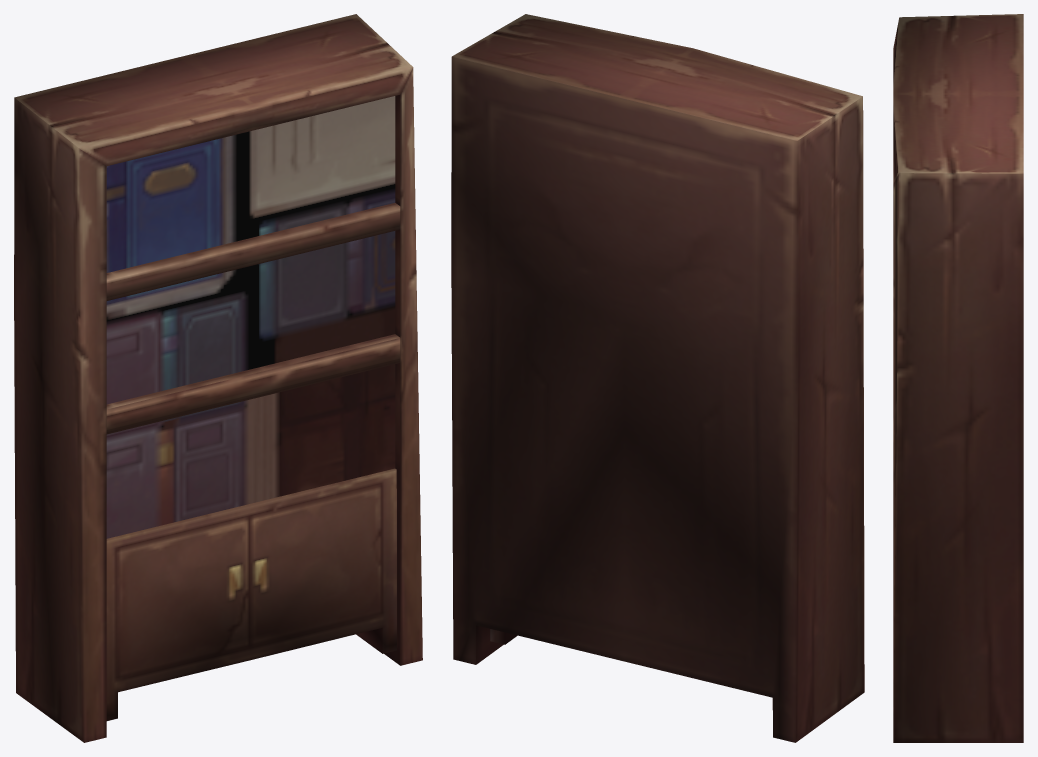
The model's file is guchengqishituan_wujian_29.FBX.
The picture shows the model from 3 angles, left to right: view 1: azimuth 30°, elevation 25°; view 2: azimuth 150°, elevation 25°; view 3: azimuth 270°, elevation 25°; orthographic projection. The views are drawn at different scales.
Parts seen in each view (by area): view 1: mesh_humanlife_props_029; view 2: mesh_humanlife_props_029; view 3: mesh_humanlife_props_029.
Boxes of the visible parts, x1,y1,x2,y2 form: mesh_humanlife_props_029: (14,14,422,742); mesh_humanlife_props_029: (451,14,864,742); mesh_humanlife_props_029: (893,14,1023,742).
Size of the model in its own units: 236 by 392 by 81.34.
